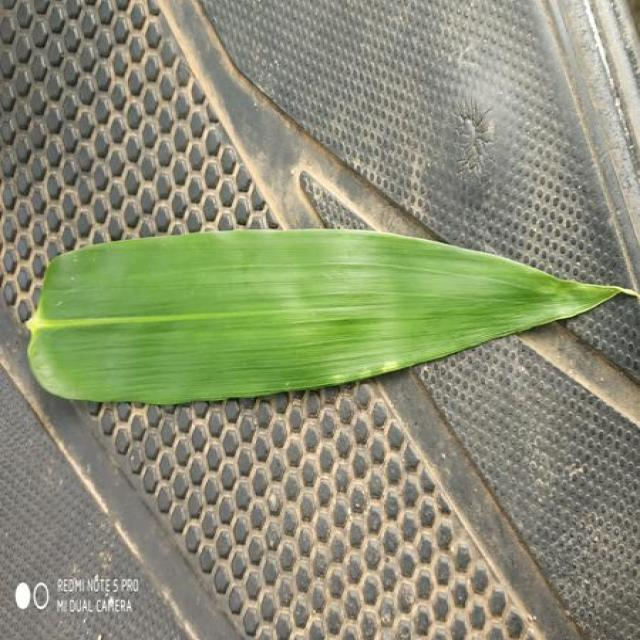Bamboo: (28, 231, 635, 404)
